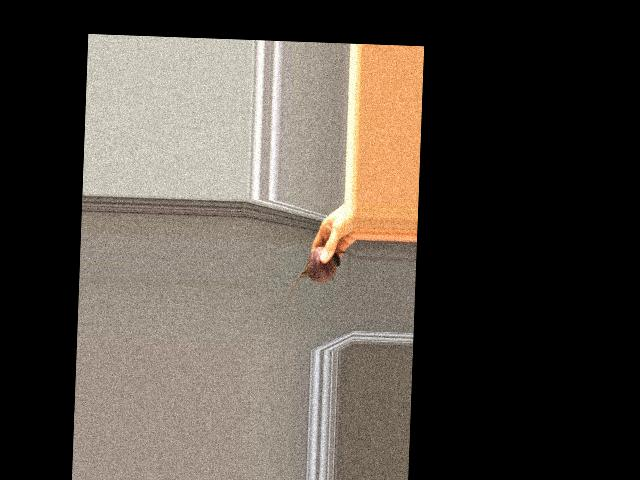beet: (288, 246, 356, 304)
